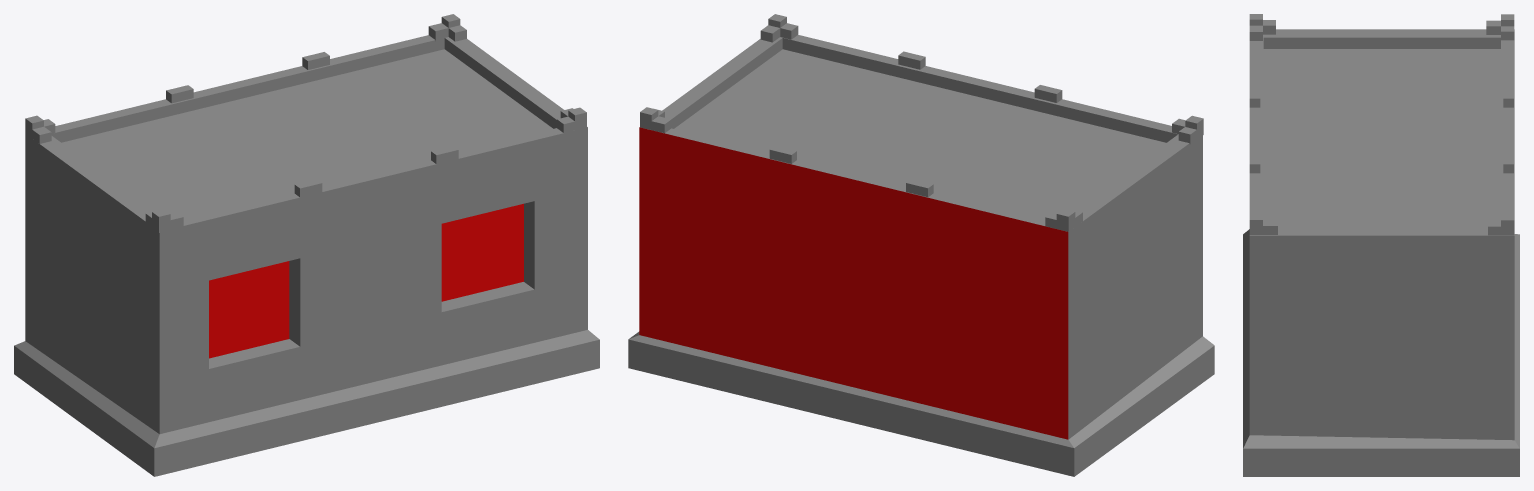
File: Mini_Batiment3.fbx
3 renders of one model, left to right at view 1: azimuth 30°, elevation 25°; view 2: azimuth 150°, elevation 25°; view 3: azimuth 270°, elevation 25°, orthographic.
Visible parts, largest first — view 1: polySurface174; view 2: polySurface174; view 3: polySurface174.
Part boxes in pixels (x1,y1,x2,y2): polySurface174: (14,14,599,476); polySurface174: (628,14,1214,476); polySurface174: (1243,14,1519,476).
Size of the model in its own units: 28.02 by 15.38 by 15.28.
